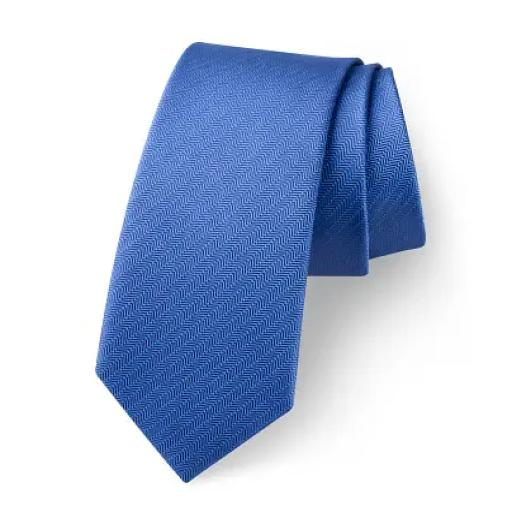tie: (94, 29, 426, 487)
